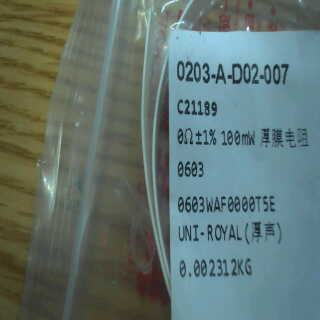0R: (173, 118, 260, 184)
